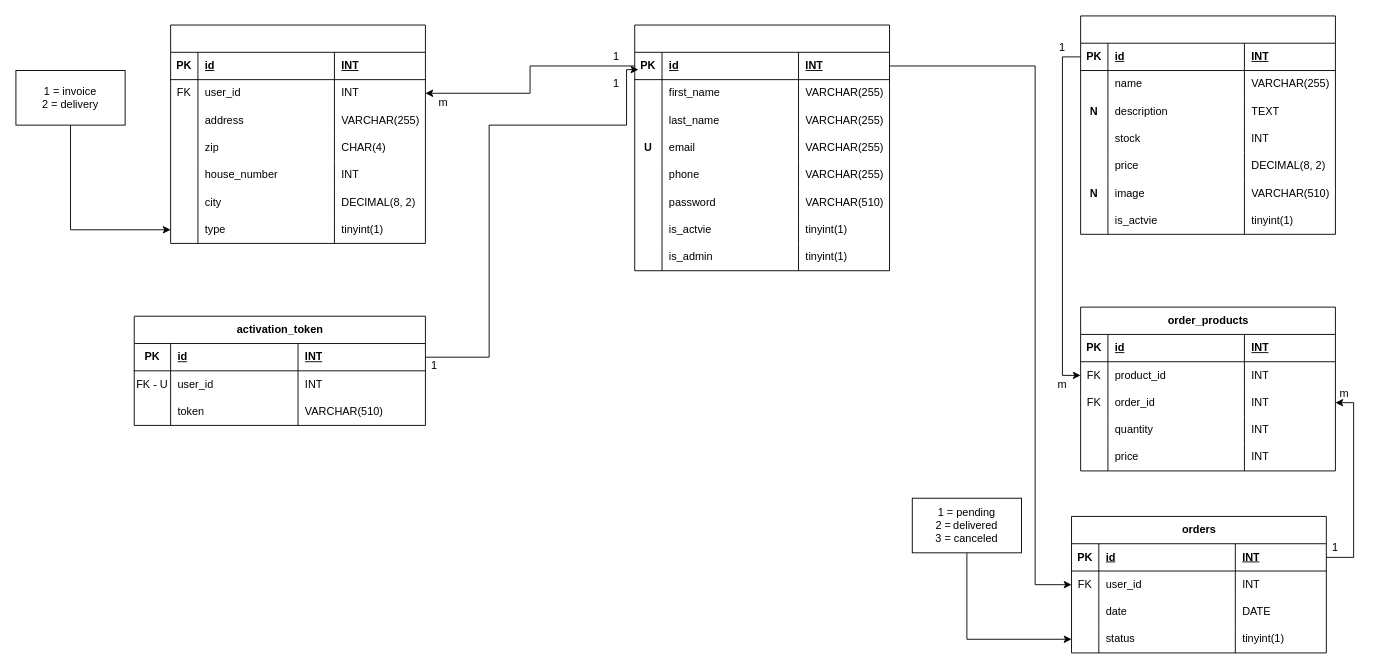
This 1388x669 diagram has some shape labels left out. Here are the shapes that lost their labels. From the top down, the box of each, then its label:
(170, 24, 425, 243): addresses
(1080, 15, 1335, 234): products
(634, 24, 890, 271): users
